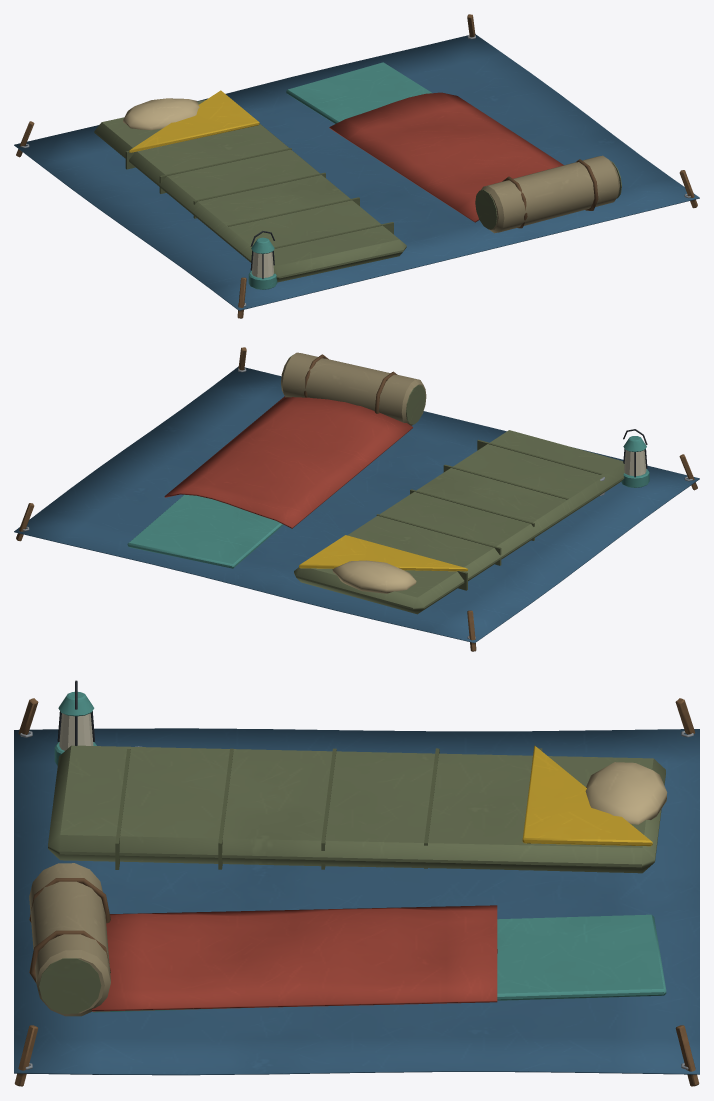
Rendered from sleeping_mats.glb.
3 renders of one model, top to bottom at view 1: azimuth 30°, elevation 25°; view 2: azimuth 150°, elevation 25°; view 3: azimuth 270°, elevation 25°, orthographic. The views are drawn at different scales.
Visible parts, largest first — view 1: sleeping_mats; view 2: sleeping_mats; view 3: sleeping_mats.
Part boxes in pixels (bbox=[...]): sleeping_mats: bbox=[14, 14, 699, 318]; sleeping_mats: bbox=[14, 347, 699, 651]; sleeping_mats: bbox=[14, 680, 699, 1086].
Size of the model in its own units: 2.6 by 0.3459 by 2.2.
15 materials, 15 textured.
